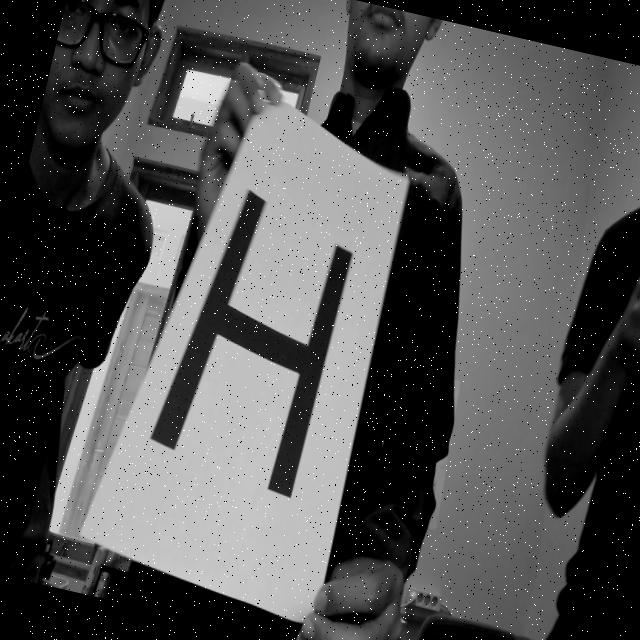h: (121, 162, 388, 567)
